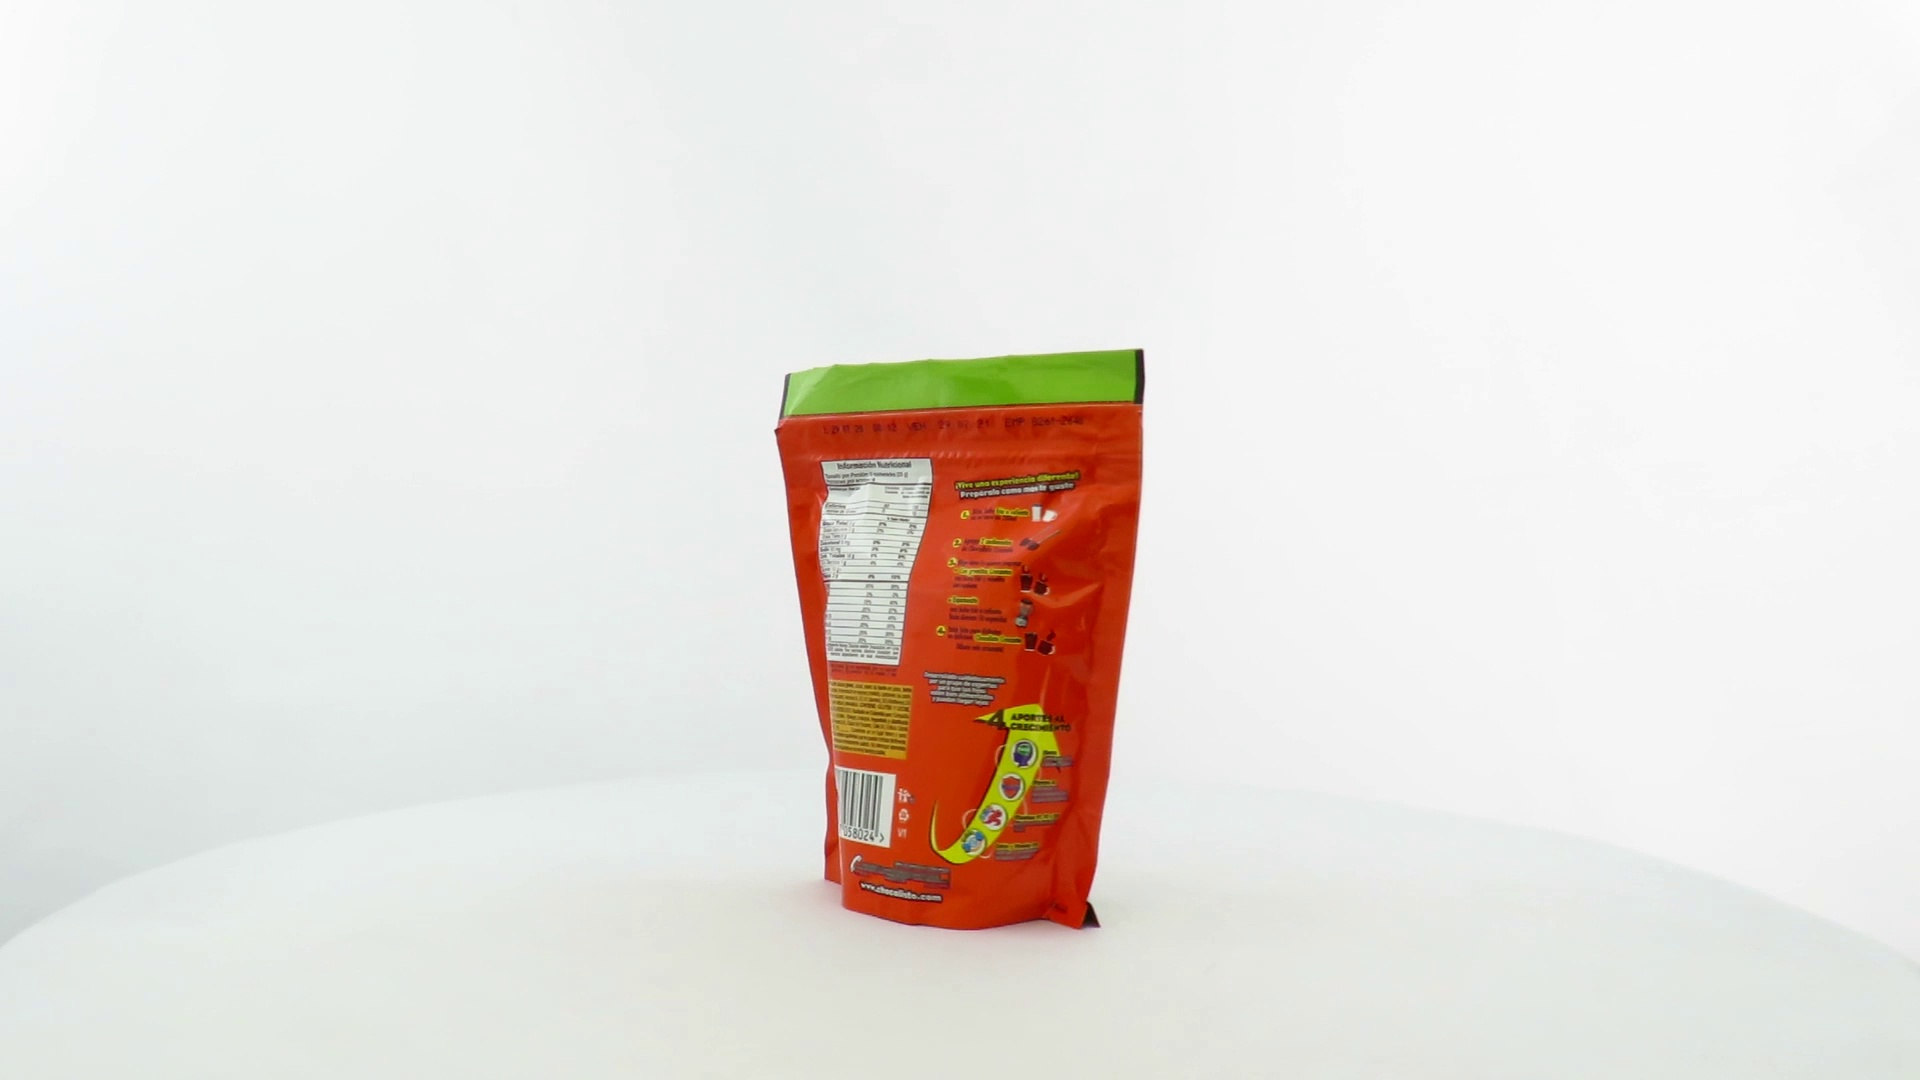COL0170102DYP10000: (769, 344, 1151, 938)
